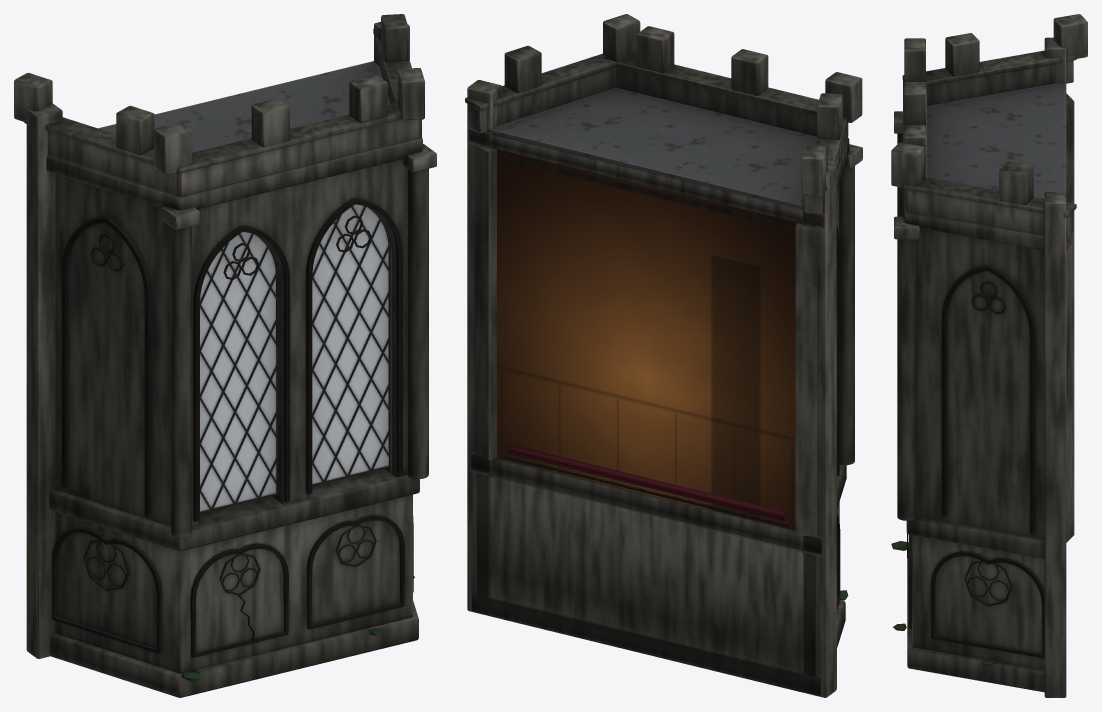
Rendered from GothicBay.fbx.
The picture shows the model from 3 angles, left to right: view 1: azimuth 30°, elevation 25°; view 2: azimuth 150°, elevation 25°; view 3: azimuth 270°, elevation 25°; orthographic projection. The views are drawn at different scales.
Visible parts, largest first — view 1: GothicBay_Main, GothicBay_Glass; view 2: GothicBay_Main, GothicBay_Room; view 3: GothicBay_Main.
Boxes of the visible parts, <box> form: GothicBay_Main: <box>14,14,436,697</box>; GothicBay_Glass: <box>200,204,388,511</box>; GothicBay_Main: <box>465,14,862,697</box>; GothicBay_Room: <box>493,148,800,530</box>; GothicBay_Main: <box>891,14,1087,697</box>.
Bounding box in the file's own units: 619 × 887 × 306.
